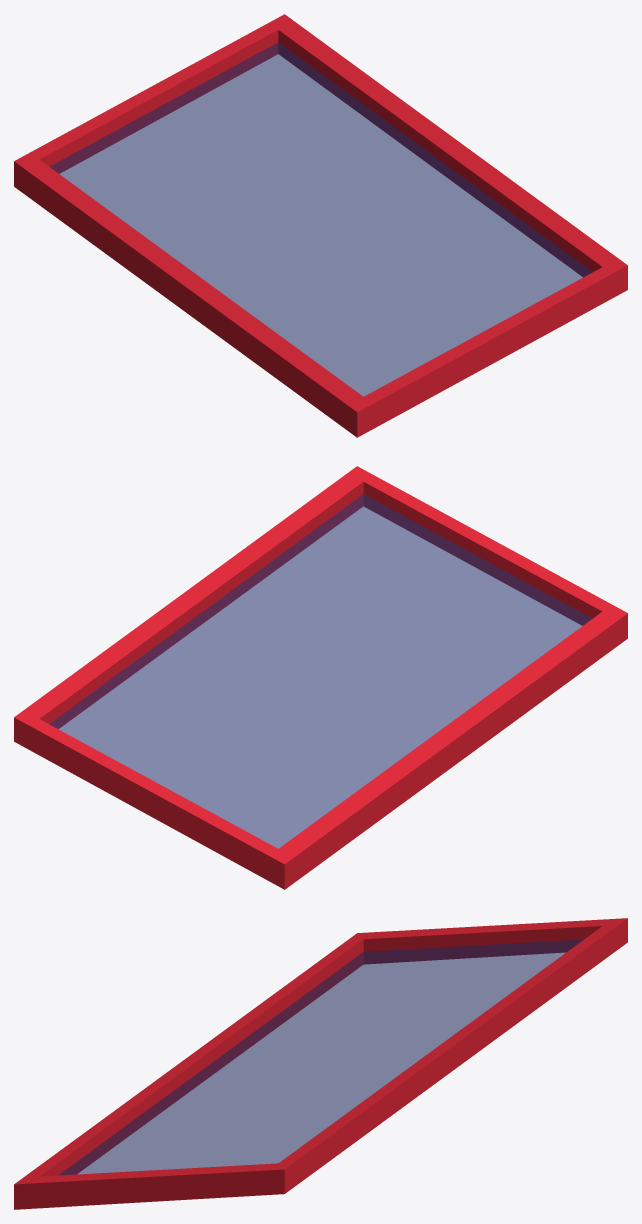
The model's file is Claraboia.Porta.fbx.
3 renders of one model, top to bottom at view 1: azimuth 30°, elevation 25°; view 2: azimuth 150°, elevation 25°; view 3: azimuth 330°, elevation 25°, orthographic.
Parts seen in each view (by area): view 1: Claraboia.Porta; view 2: Claraboia.Porta; view 3: Claraboia.Porta.
Part boxes in pixels (x1,y1,x2,y2): Claraboia.Porta: [14, 14, 627, 437]; Claraboia.Porta: [14, 466, 627, 889]; Claraboia.Porta: [14, 918, 627, 1209].
Bounding box in the file's own units: 169 × 63.3 × 370.
